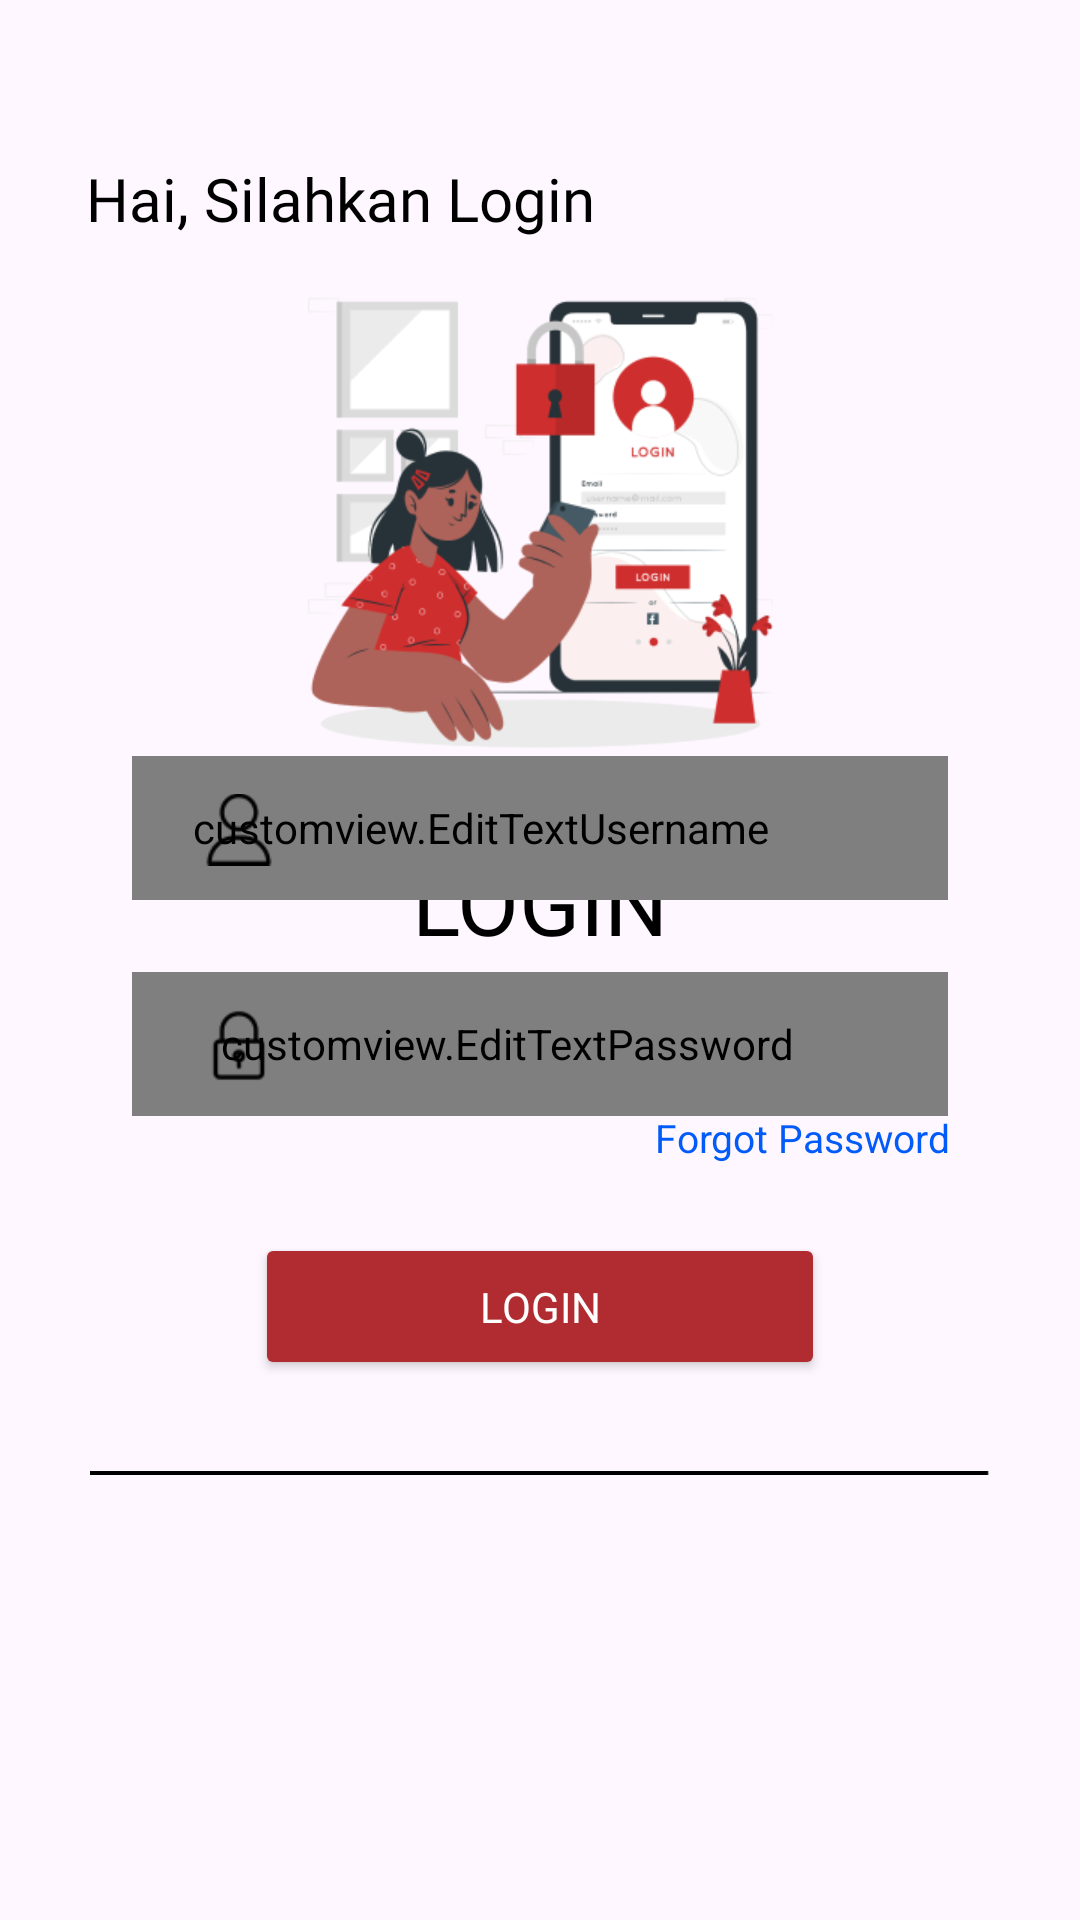

Named icons in this screenshot (1080px x 1920px) and their bounding boxes, (x1, y1, x2, y2):
passwrd: (213, 1011, 265, 1080)
